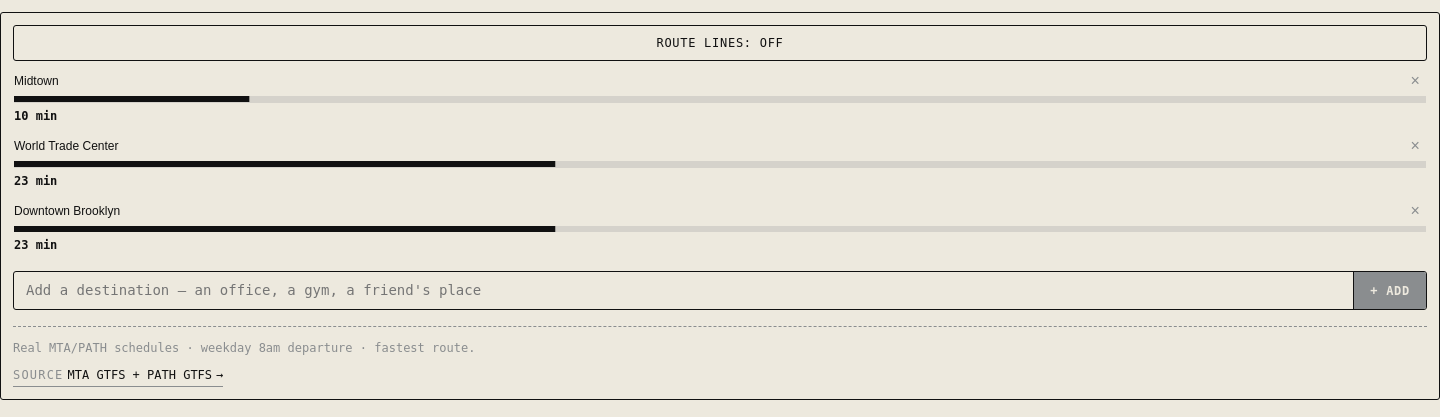
GettingAroundField -- Wave 4 route-lines toggle + nav directions › the route-lines toggle starts off and flips on click
Click the button "Route lines: off": (720, 43) [13,25,1427,61]
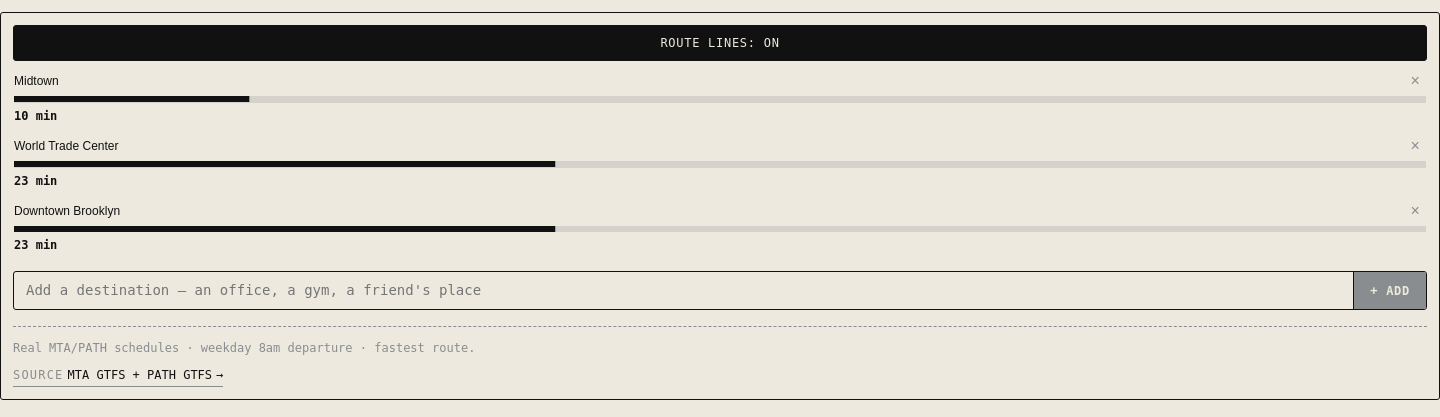
Expected: the button "Route lines: on" is shown, [13,25,1427,61]
